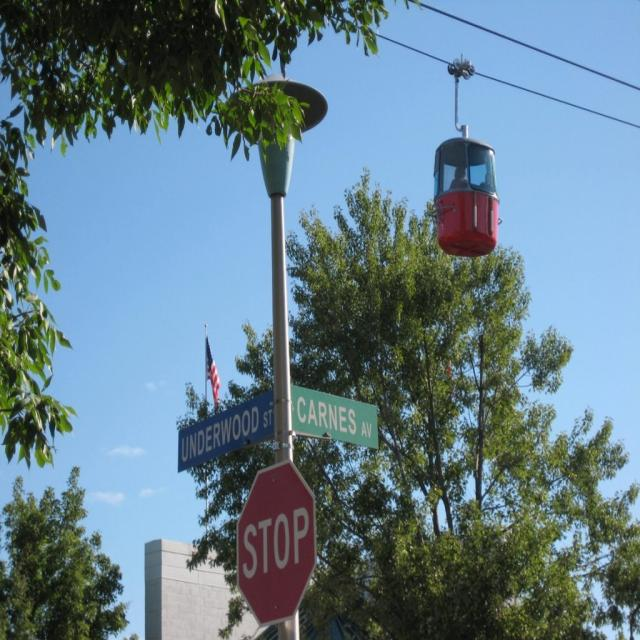Stop-sign: (236, 457, 318, 629)
